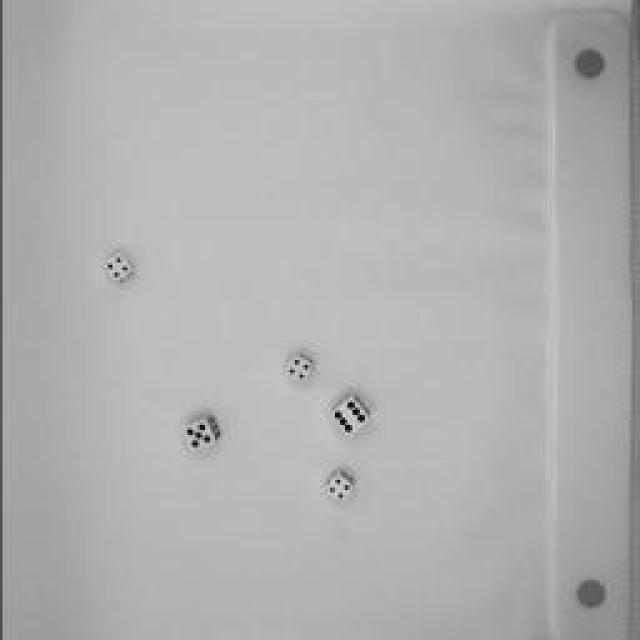dice_4: (99, 249, 139, 291), (280, 349, 318, 386), (324, 468, 358, 502)
dice_6: (325, 390, 377, 440), (179, 409, 226, 456)
